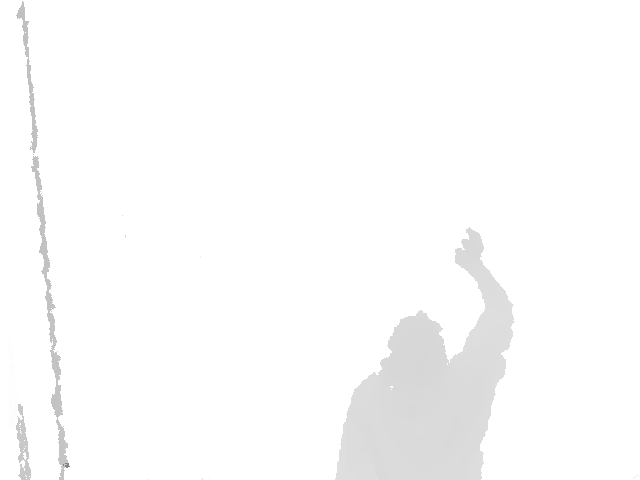hand: (454, 226, 485, 277)
head: (386, 311, 449, 392)
person: (333, 226, 516, 480)
